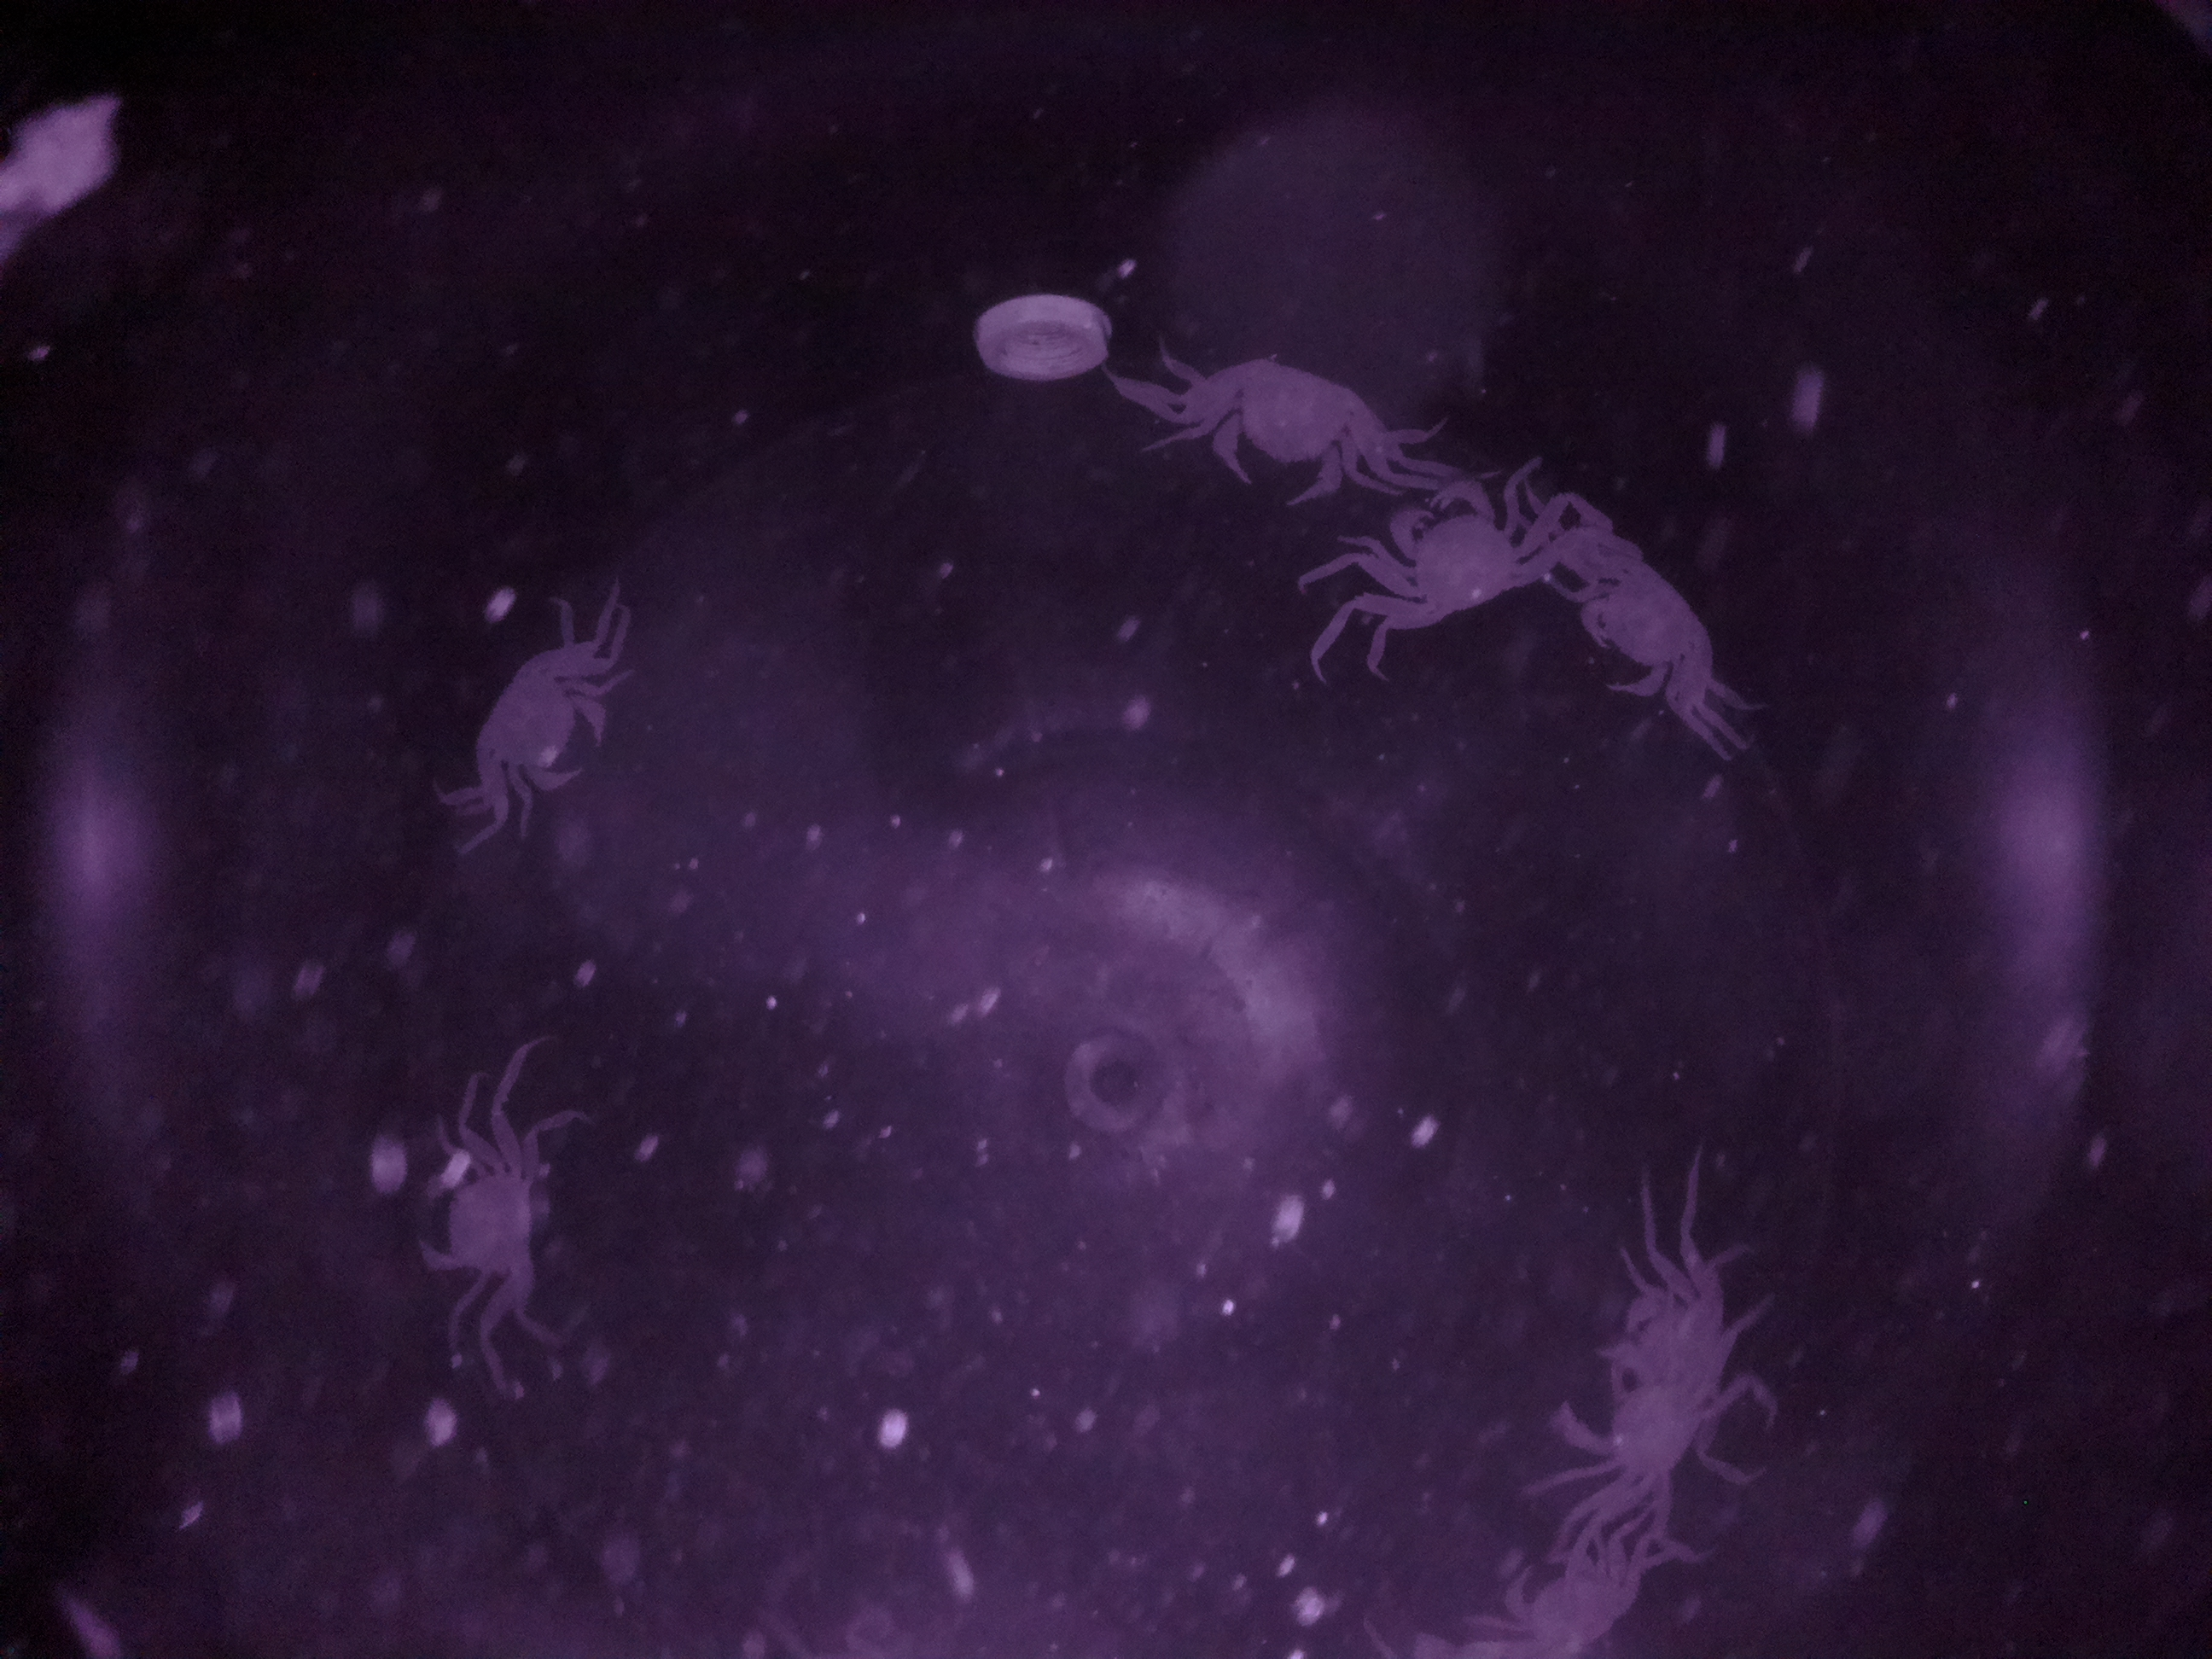Crab: (1169, 335, 1395, 521), (1369, 453, 1550, 660), (1555, 530, 1735, 718), (458, 641, 622, 807)
